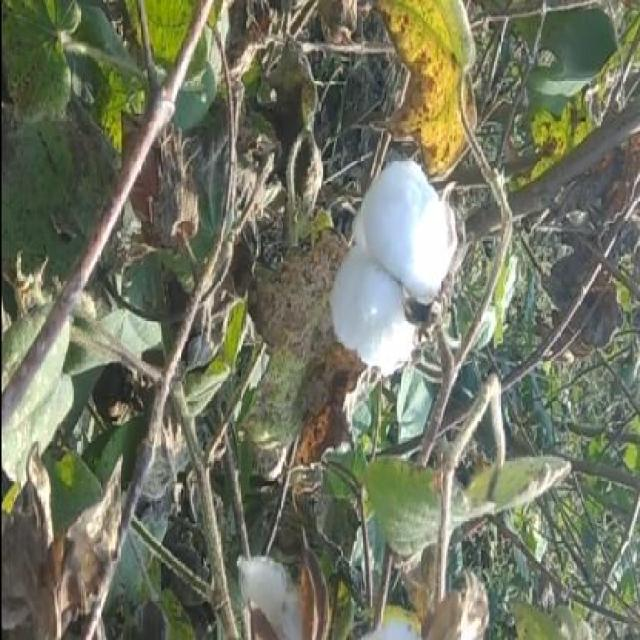cotton_ready: (322, 139, 472, 384)
